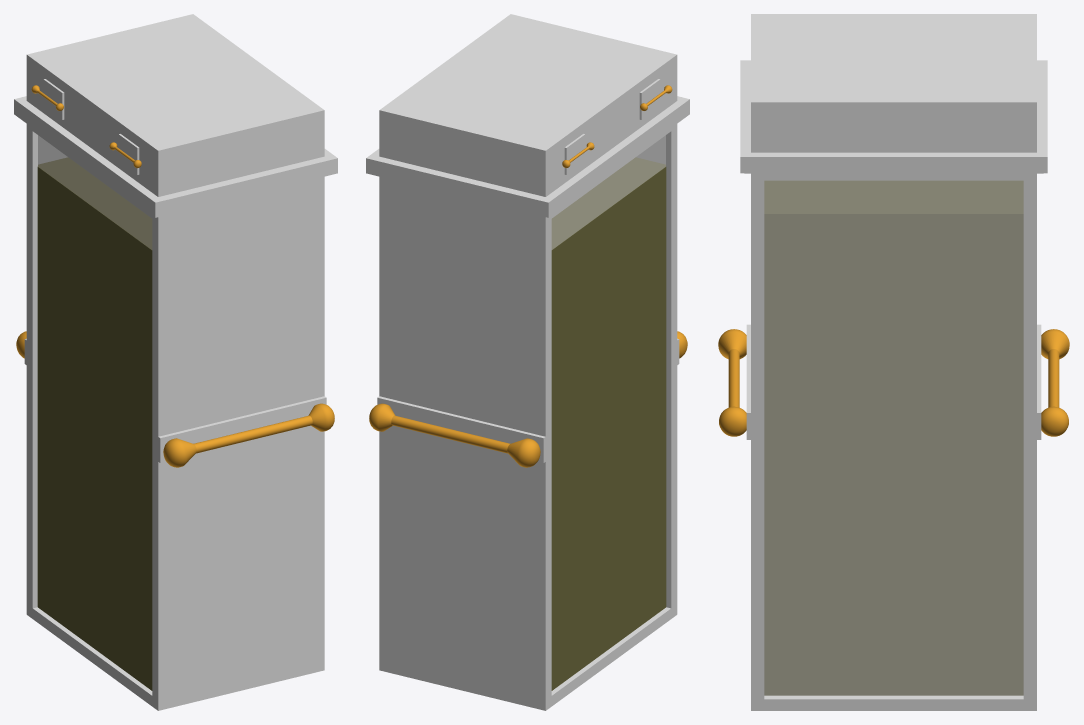
File: Houdini Tank.fbx
The picture shows the model from 3 angles, left to right: view 1: azimuth 30°, elevation 25°; view 2: azimuth 150°, elevation 25°; view 3: azimuth 270°, elevation 25°; orthographic projection. The views are drawn at different scales.
Parts seen in each view (by area): view 1: Tank; view 2: Tank; view 3: Tank.
Boxes of the visible parts, x1=… form: Tank: x1=14, y1=14, x2=337, y2=710; Tank: x1=366, y1=14, x2=689, y2=710; Tank: x1=718, y1=14, x2=1069, y2=710.
Size of the model in its own units: 356 by 1034 by 541.
